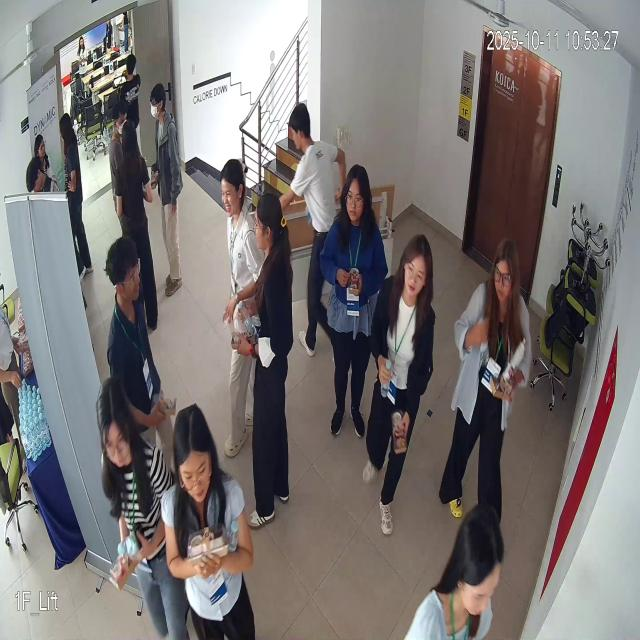face: (106, 233, 150, 310), (396, 228, 435, 312), (489, 228, 518, 312), (341, 160, 373, 232), (219, 154, 247, 224)
